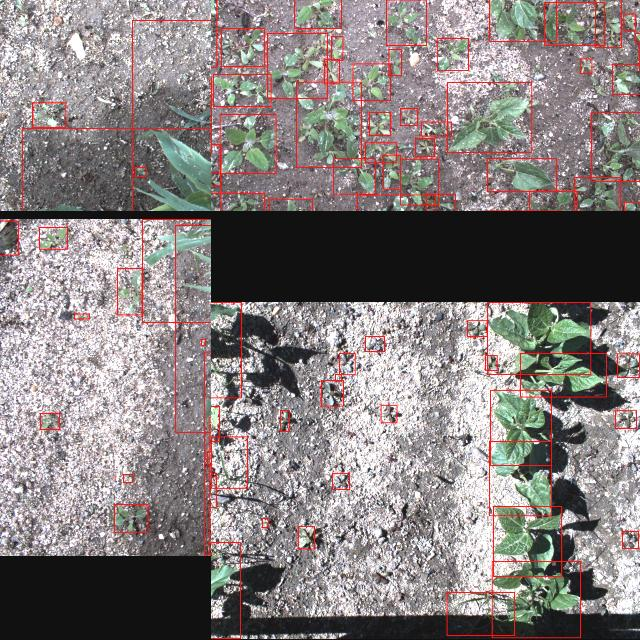crop: (22, 128, 211, 211), (132, 20, 211, 211), (488, 301, 590, 373), (142, 218, 211, 321), (492, 560, 580, 638), (448, 81, 532, 152), (492, 506, 562, 576), (489, 440, 551, 516), (491, 389, 552, 465), (520, 352, 606, 396), (220, 114, 276, 172), (211, 301, 241, 397), (211, 542, 240, 638), (489, 0, 556, 40), (488, 158, 556, 192)
weed: (296, 81, 362, 167), (267, 32, 327, 98), (591, 111, 640, 180), (447, 592, 515, 634), (544, 1, 604, 44), (213, 74, 271, 106), (211, 437, 247, 488), (399, 159, 438, 205), (387, 0, 427, 44), (574, 176, 620, 211), (222, 28, 264, 66), (333, 158, 375, 194), (352, 62, 390, 100), (294, 0, 341, 27), (357, 195, 435, 211), (595, 0, 621, 47), (118, 268, 142, 314), (529, 190, 577, 211), (211, 192, 264, 211), (438, 38, 468, 70), (114, 504, 148, 532), (612, 64, 640, 94), (33, 102, 66, 126), (39, 226, 67, 248), (0, 220, 18, 254), (366, 142, 396, 162), (384, 155, 401, 189), (321, 380, 343, 404), (617, 353, 639, 377), (426, 194, 455, 211), (369, 112, 391, 134), (422, 121, 452, 135), (324, 58, 340, 84), (388, 49, 402, 75), (616, 409, 636, 427), (298, 526, 314, 548), (416, 138, 434, 156), (40, 413, 60, 429), (467, 320, 487, 336), (340, 352, 354, 374), (331, 36, 343, 60), (400, 108, 418, 124), (381, 404, 397, 422), (332, 473, 350, 489), (622, 530, 638, 548), (211, 405, 219, 440), (366, 336, 384, 350), (280, 410, 290, 430), (485, 354, 497, 370), (624, 12, 634, 30), (580, 58, 592, 72), (624, 201, 640, 211), (211, 172, 220, 185), (136, 168, 146, 176), (74, 314, 90, 318), (124, 474, 132, 482), (262, 517, 268, 527), (207, 451, 211, 465), (635, 32, 640, 41), (336, 374, 342, 381), (201, 339, 205, 345)
